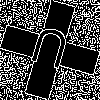U: (25, 25, 73, 79)
